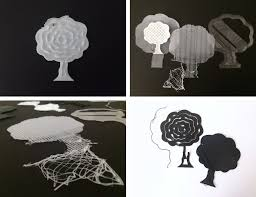fail: (26, 132, 129, 192), (151, 64, 187, 94)
